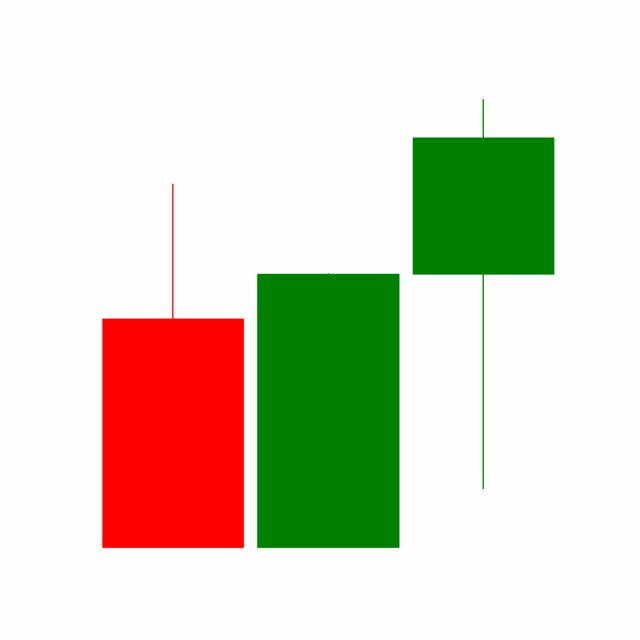Marubozu: (249, 270, 406, 550)
